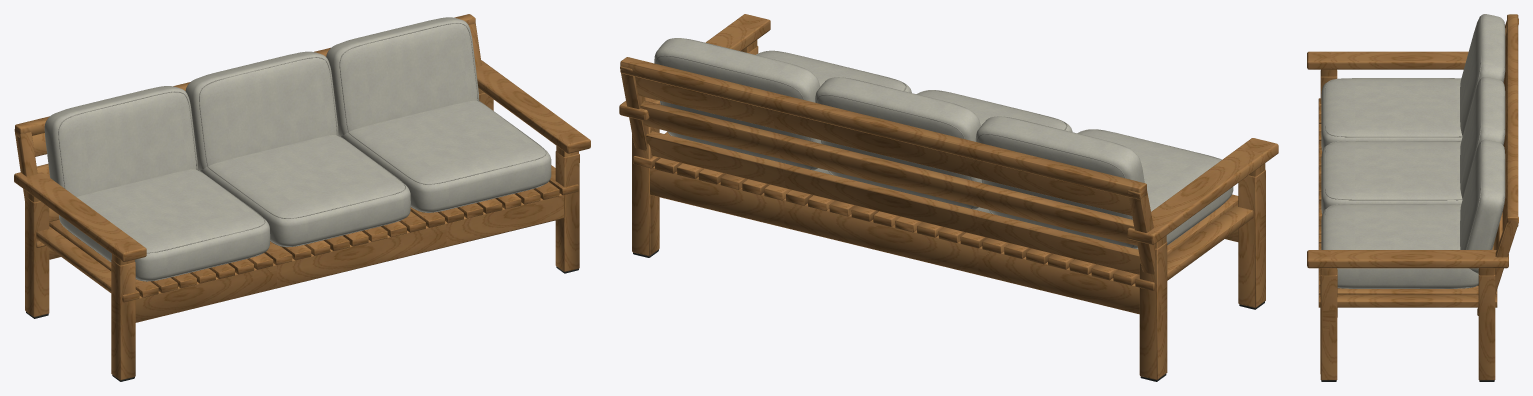
The model's file is detail_sofa.glb.
3 views of the same model, side by side, from view 1: azimuth 30°, elevation 25°; view 2: azimuth 150°, elevation 25°; view 3: azimuth 270°, elevation 25° (orthographic). The views are drawn at different scales.
Parts seen in each view (by area): view 1: Canvas | stone back cushion, Teak | arm front upright, Canvas | stone back cushion | lower tailored welt; view 2: Teak | arm front upright, Canvas | stone back cushion, Canvas | stone back cushion | lower tailored welt; view 3: Canvas | stone back cushion, Teak | arm front upright, Canvas | stone back cushion | lower tailored welt.
Part boxes in pixels (box(x1,y1,x2,y2)): Canvas | stone back cushion: box(44, 17, 551, 280); Teak | arm front upright: box(14, 14, 590, 380); Canvas | stone back cushion | lower tailored welt: box(58, 23, 546, 281); Teak | arm front upright: box(619, 14, 1278, 379); Canvas | stone back cushion: box(654, 38, 1233, 249); Canvas | stone back cushion | lower tailored welt: box(655, 38, 1221, 247); Canvas | stone back cushion: box(1321, 14, 1505, 288); Teak | arm front upright: box(1307, 14, 1518, 380); Canvas | stone back cushion | lower tailored welt: box(1325, 16, 1504, 288).
Bounding box in the file's own units: 2.21 × 0.8765 × 0.9447.
Materials: 4 (2 with a texture image).
